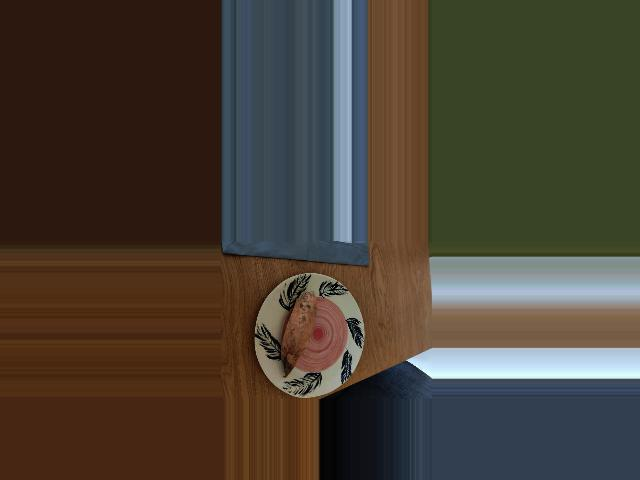sweet_potato: (274, 294, 322, 370)
